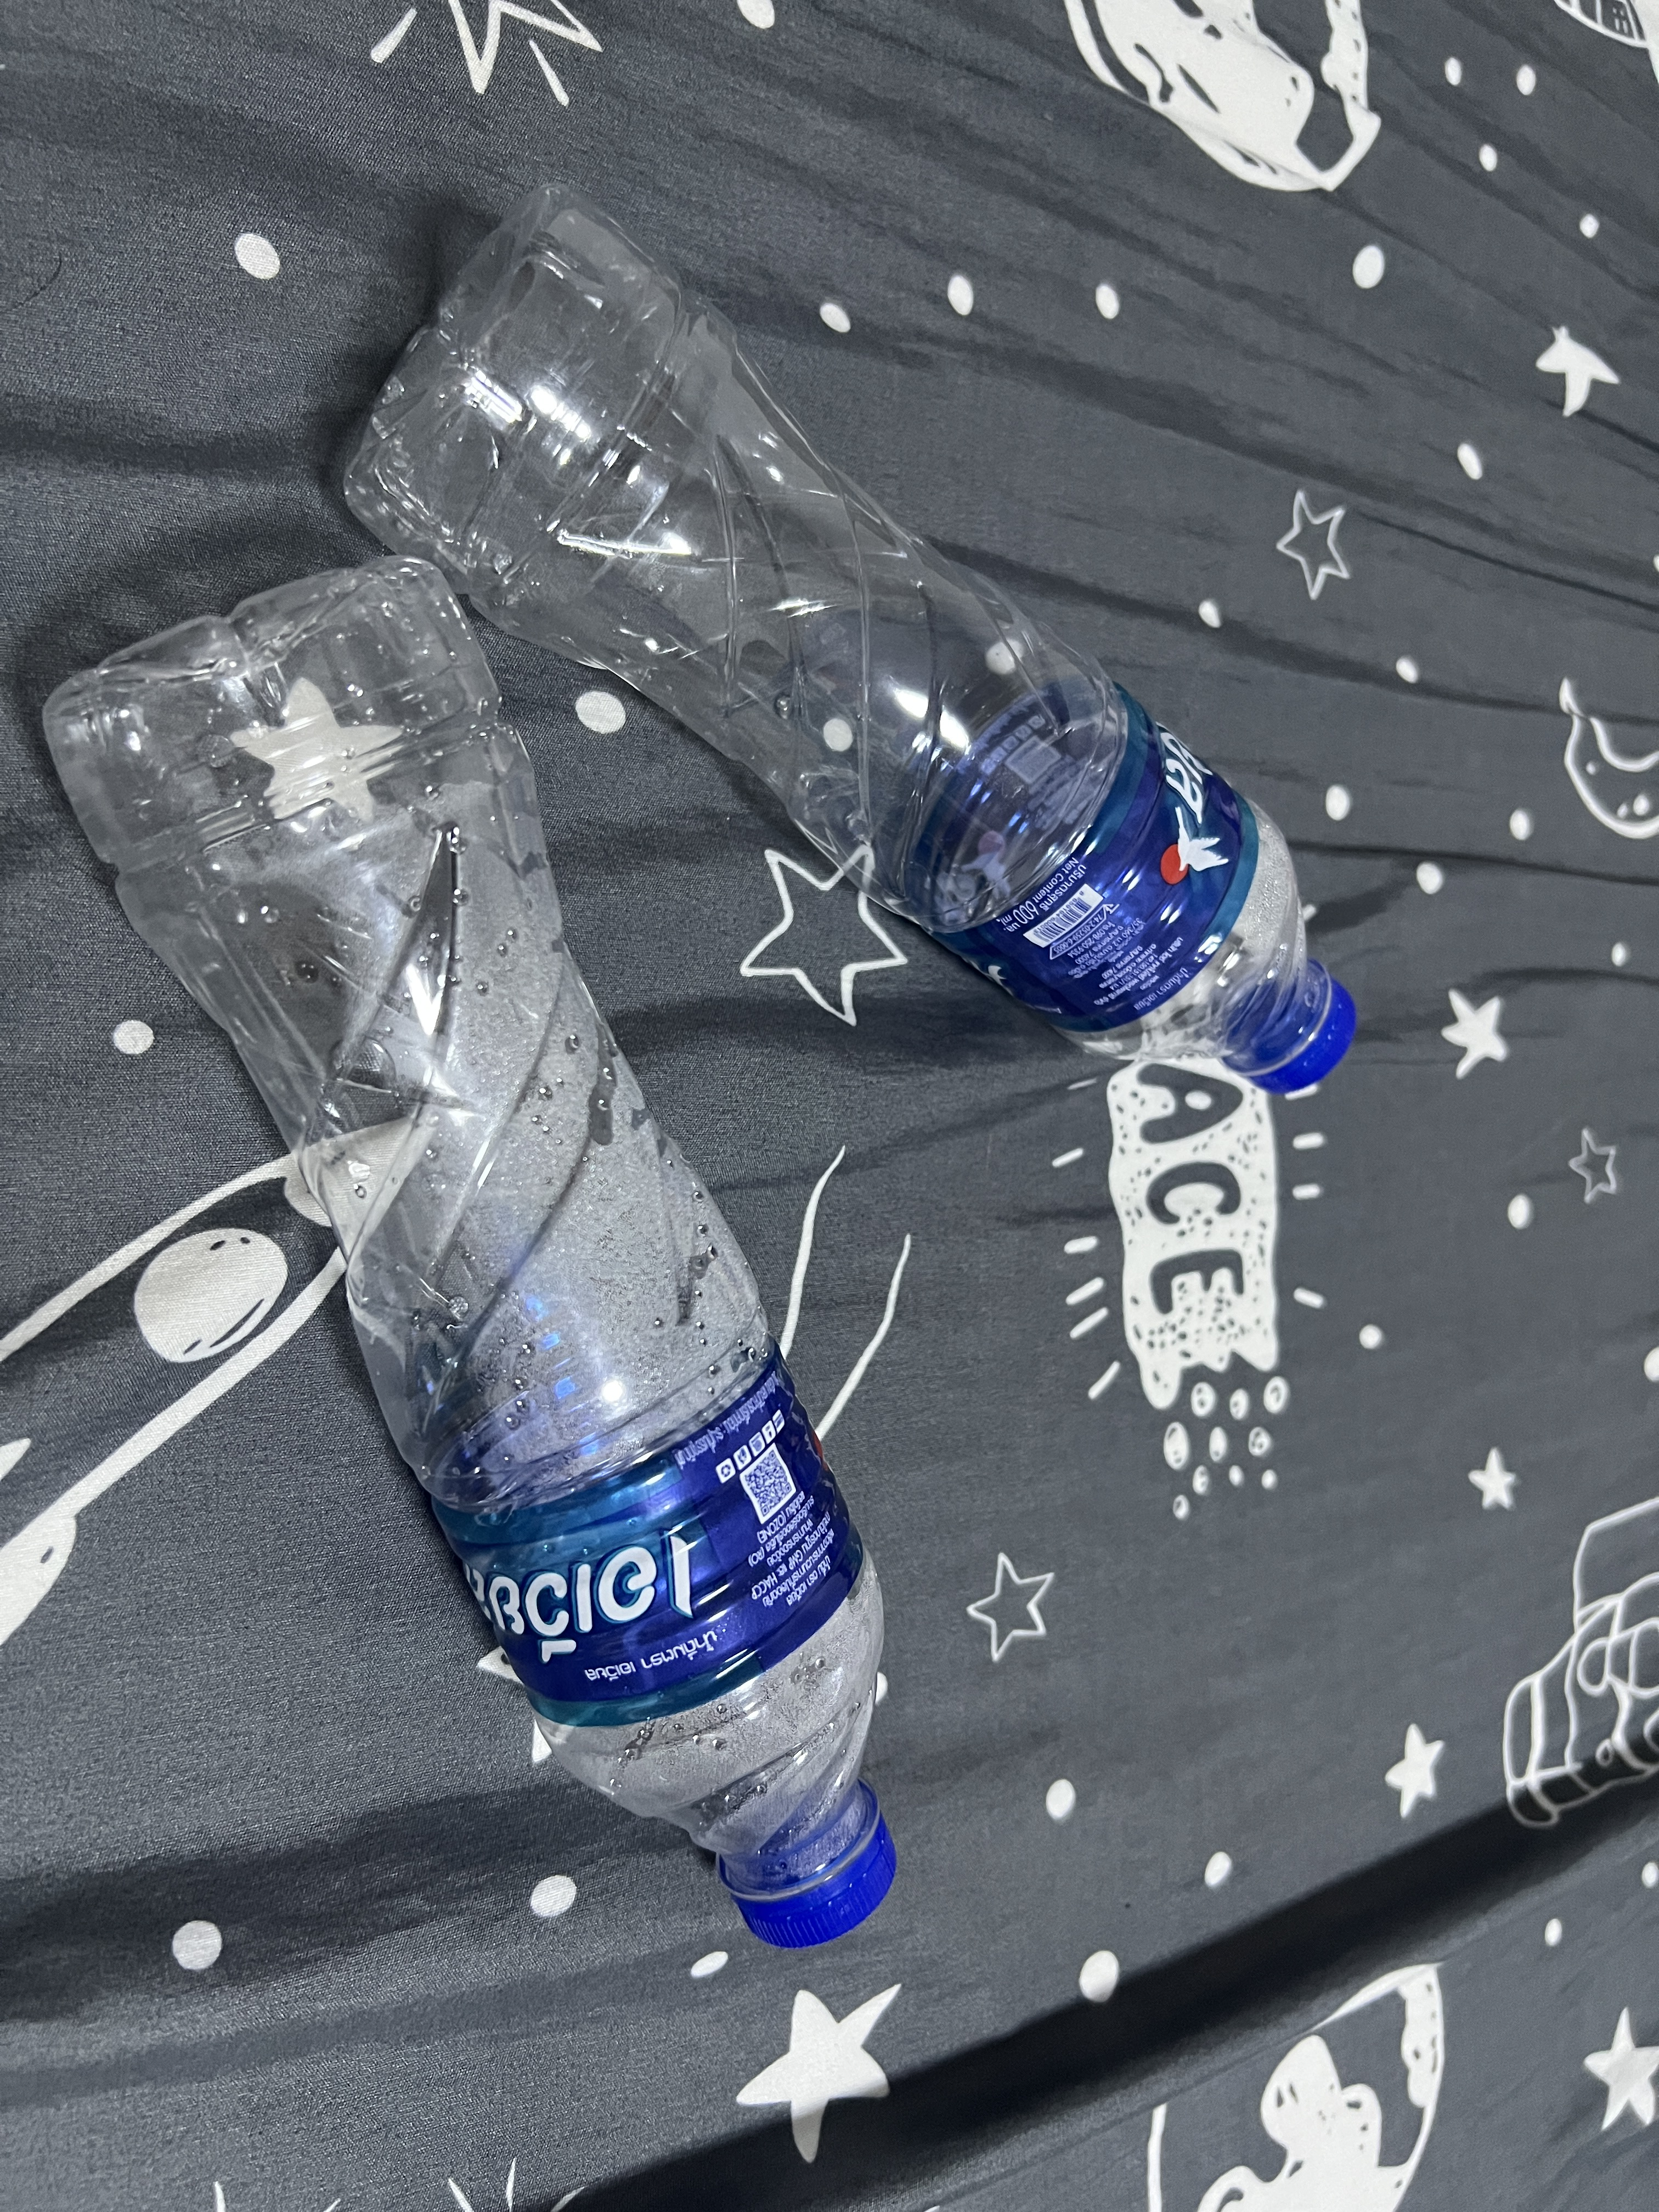plastic_bottle: (14, 531, 939, 1970), (328, 125, 1412, 1129)
